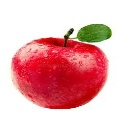apple: (11, 36, 111, 112)
